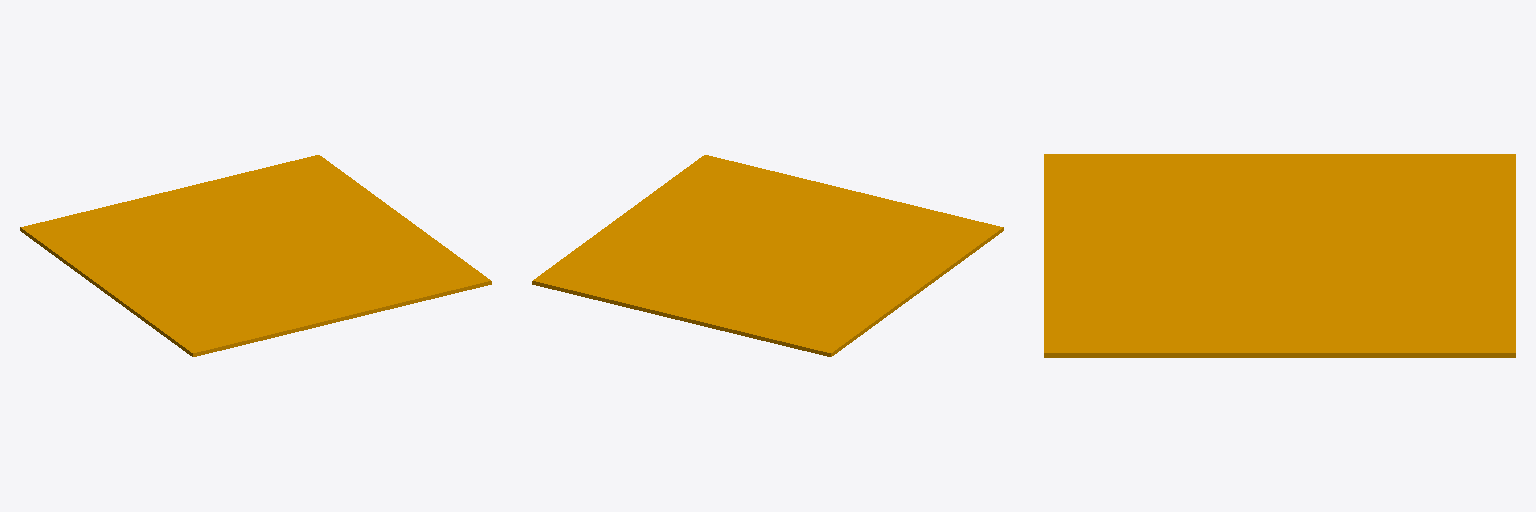
robot.urdf — unnamed:
<?xml version="1.0"?>
<!-- created with Phobos 1.0.1 "Capricious Choutengan" -->
  <robot name="unnamed">

    <link name="base_link">
      <inertial>
        <origin xyz="0 0 0" rpy="0 0 0"/>
        <mass value="0.001"/>
        <inertia ixx="0.001" ixy="0" ixz="0" iyy="0.001" iyz="0" izz="0.001"/>
      </inertial>
      <visual name="floor">
        <origin xyz="0 0 0" rpy="0 0 0"/>
        <geometry>
          <box size="16.0 16.0 0.2"/>
        </geometry>
      </visual>
    </link>

  </robot>

--- Render facts (derived) ---
Views: 3 orthographic renders of the robot side by side, from view 1: azimuth 30°, elevation 25°; view 2: azimuth 150°, elevation 25°; view 3: azimuth 270°, elevation 25°.
Model unnamed with 1 links and 0 joints (none), rooted at base_link, posed every joint at zero.
Visible links, largest first — view 1: base_link; view 2: base_link; view 3: base_link.
Boxes of the visible links, bbox=[...] form: base_link: bbox=[20, 155, 491, 356]; base_link: bbox=[532, 155, 1003, 356]; base_link: bbox=[1044, 154, 1515, 357].
Bounding box of the posed robot: 16 × 16 × 0.2 m (x, y, z).
Geometry: primitives only (box / cylinder / sphere), no mesh files.